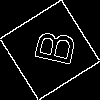B: (25, 25, 77, 68)
